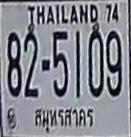0: (88, 31, 104, 98)
1: (75, 30, 80, 98)
2: (24, 31, 39, 99)
5: (53, 31, 69, 98)
8: (7, 32, 22, 96)
9: (106, 30, 121, 98)
SPK: (32, 105, 97, 133)
